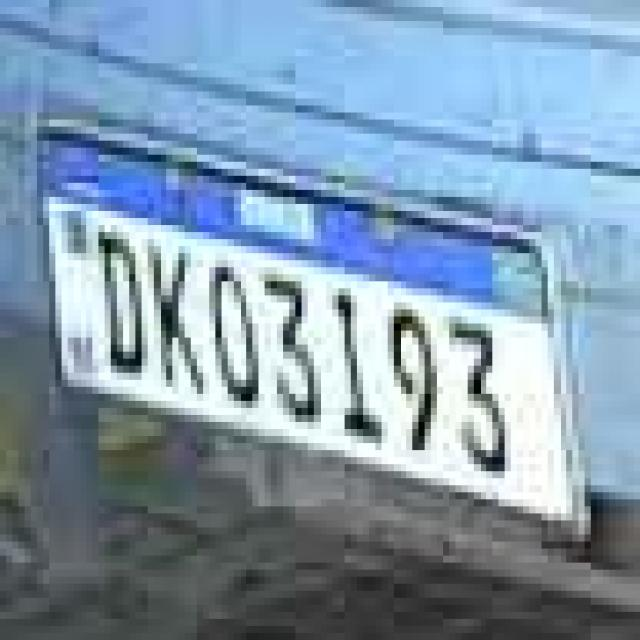3: (447, 303, 512, 484), (258, 261, 317, 430)
9: (382, 299, 442, 461)
D: (96, 225, 151, 386)
I: (328, 281, 383, 449)
K: (147, 231, 201, 402)
O: (201, 254, 264, 418)
